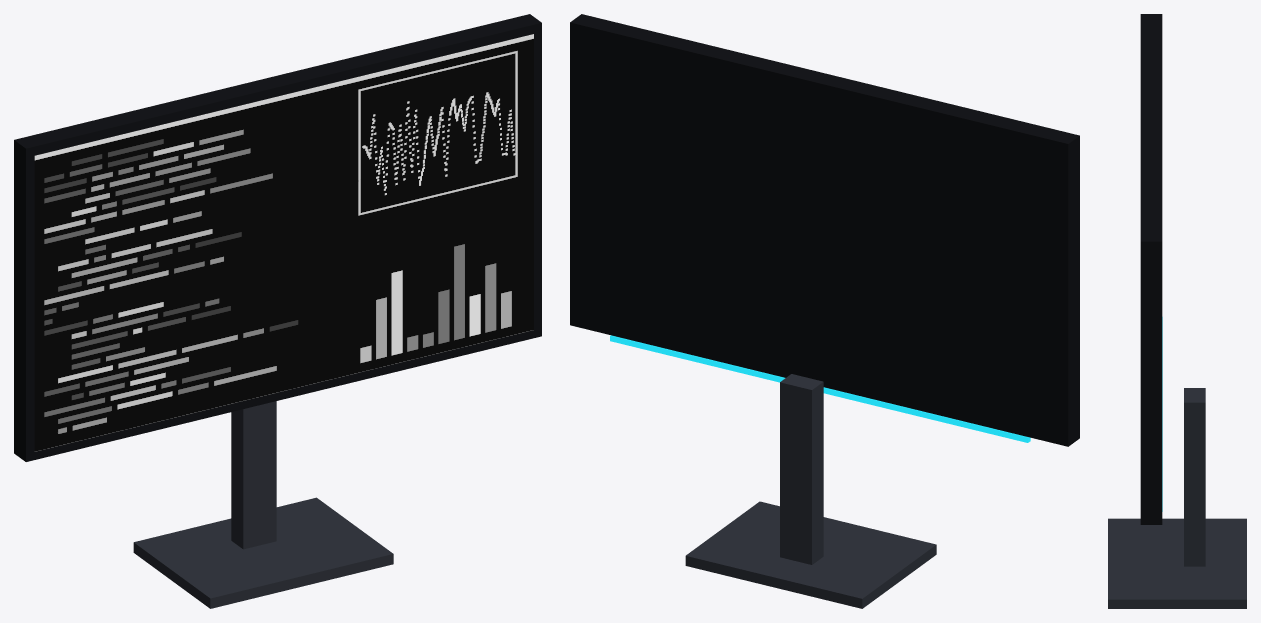
File: Tech_Monitor.glb
3 renders of one model, left to right at view 1: azimuth 30°, elevation 25°; view 2: azimuth 150°, elevation 25°; view 3: azimuth 270°, elevation 25°, orthographic. The views are drawn at different scales.
Visible parts, largest first — view 1: Tech_Monitor; view 2: Tech_Monitor; view 3: Tech_Monitor.
Part boxes in pixels (left/top/right/bottom): Tech_Monitor: left=14, top=14, right=541, bottom=608; Tech_Monitor: left=570, top=14, right=1079, bottom=608; Tech_Monitor: left=1108, top=14, right=1246, bottom=608.
Bounding box in the file's own units: 0.62 × 0.56 × 0.16.
4 materials, 1 textured.
